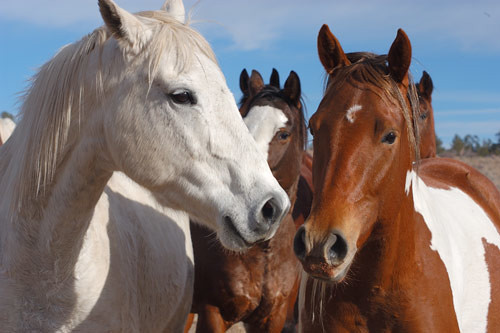horse: (11, 1, 290, 330), (295, 18, 500, 333)
